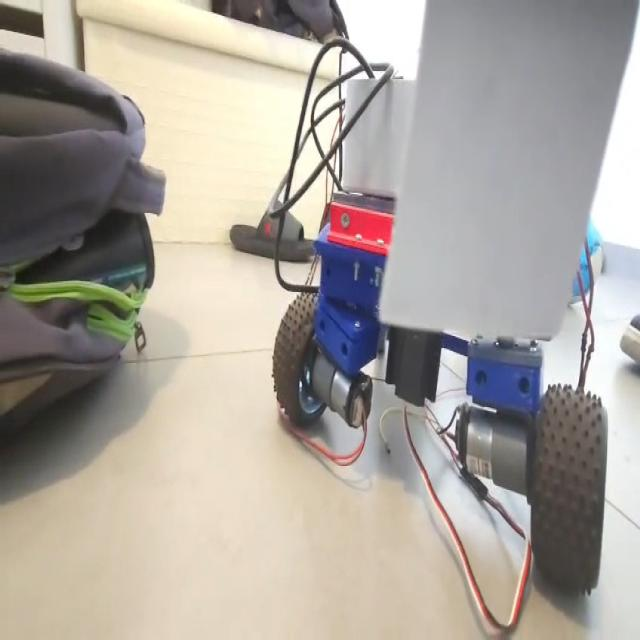Robot: (273, 80, 609, 594)
